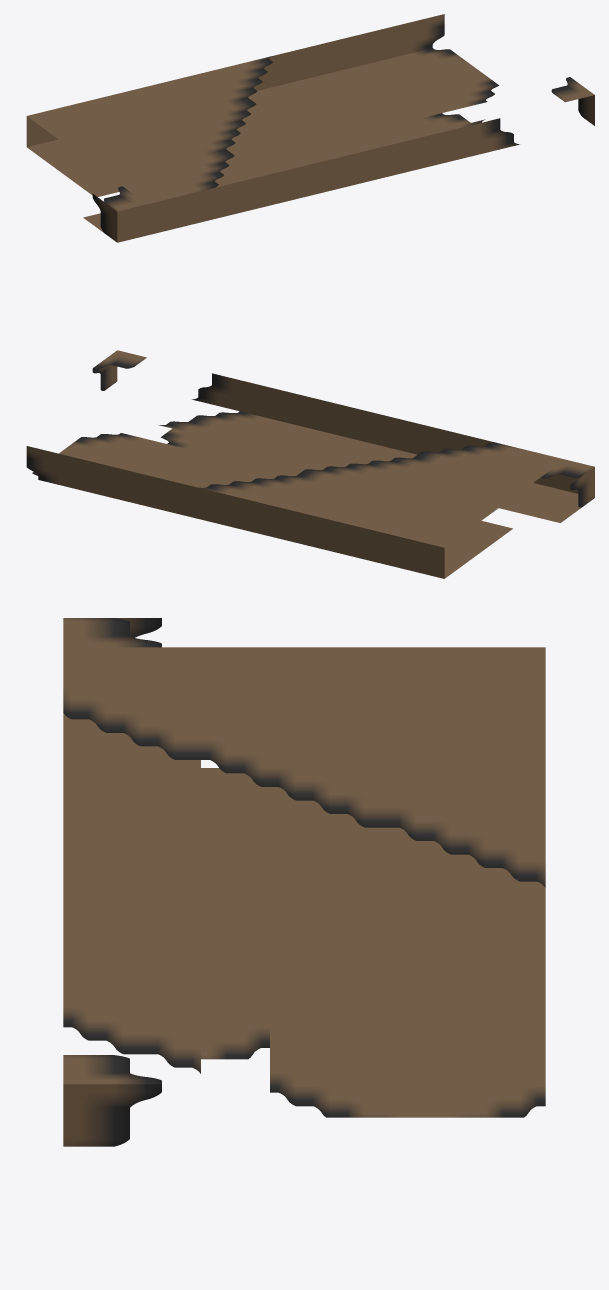
Rendered from Prateleira.obj.
3 views of the same model, one above another, from view 1: azimuth 30°, elevation 25°; view 2: azimuth 150°, elevation 25°; view 3: azimuth 270°, elevation 25° (orthographic). The views are drawn at different scales.
Parts seen in each view (by area): view 1: Model; view 2: Model; view 3: Model.
Part boxes in pixels (<box>): Model: <box>26,14,594,242</box>; Model: <box>26,350,594,578</box>; Model: <box>63,618,545,1146</box>.
Size of the model in its own units: 32 by 8 by 14.
Materials: 1 (1 with a texture image).
